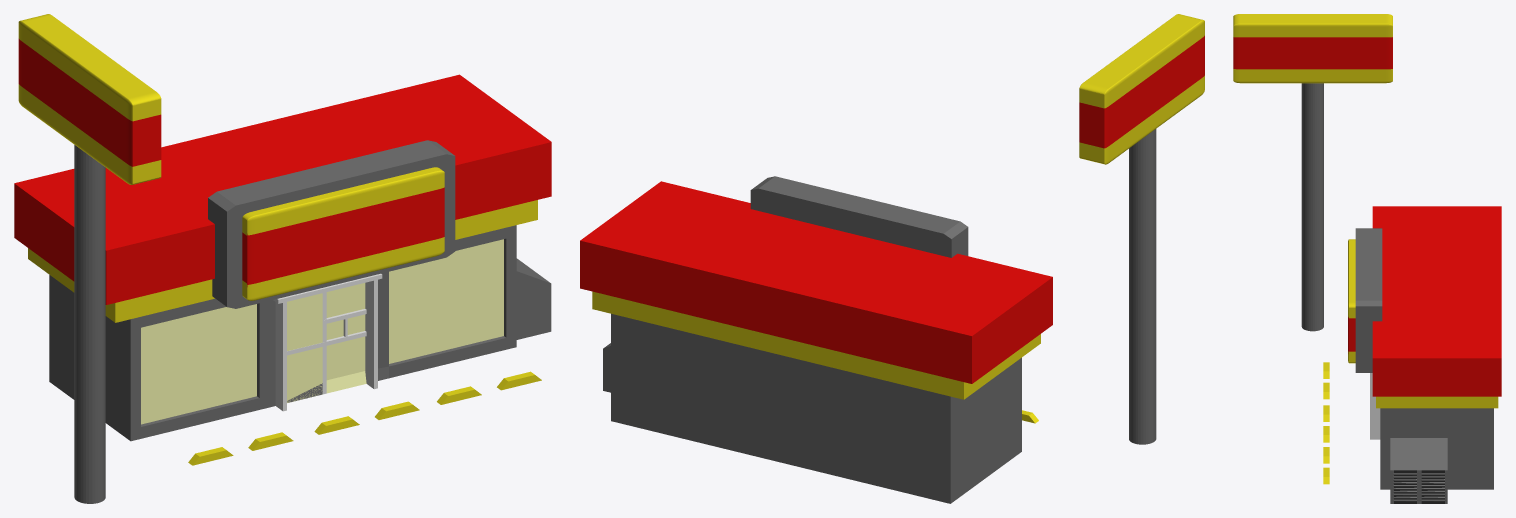
File: oxxo.glb
The picture shows the model from 3 angles, left to right: view 1: azimuth 30°, elevation 25°; view 2: azimuth 150°, elevation 25°; view 3: azimuth 270°, elevation 25°; orthographic projection. The views are drawn at different scales.
Parts seen in each view (by area): view 1: Base, Techo, Cartel, Cartel.001, Cube, Techo.001, Topes, Cube.001, Puerta.001, Puerta, Puerta.002; view 2: Techo, Base, Cartel, Cube, Techo.001; view 3: Techo, Cartel, Base, Cube, Cube.001, Techo.001, Cartel.001, Topes, Tapas.001, Tapas, Puerta.001.
Part boxes in pixels (x1,y1,x2,y2): Base: (49, 225, 516, 441); Techo: (14, 74, 551, 304); Cartel: (18, 14, 161, 503); Cartel.001: (242, 167, 444, 300); Cube: (208, 140, 455, 308); Techo.001: (28, 200, 537, 322); Topes: (188, 371, 541, 465); Cube.001: (516, 258, 551, 339); Puerta.001: (365, 279, 377, 389); Puerta: (275, 302, 286, 411); Puerta.002: (273, 273, 382, 303); Techo: (580, 181, 1052, 383); Base: (611, 313, 1021, 503); Cartel: (1079, 14, 1204, 444); Cube: (750, 176, 968, 257); Techo.001: (592, 291, 1040, 399); Techo: (1372, 206, 1501, 396); Cartel: (1233, 14, 1392, 331); Base: (1380, 408, 1493, 489); Cube: (1355, 228, 1382, 372); Cube.001: (1390, 438, 1447, 503); Techo.001: (1376, 396, 1498, 408); Cartel.001: (1348, 239, 1355, 363); Topes: (1323, 362, 1329, 484); Tapas.001: (1421, 473, 1444, 501); Tapas: (1393, 473, 1416, 501); Puerta.001: (1370, 373, 1380, 439).
Bounding box in the file's own units: 27.68 × 21.84 × 17.21.
